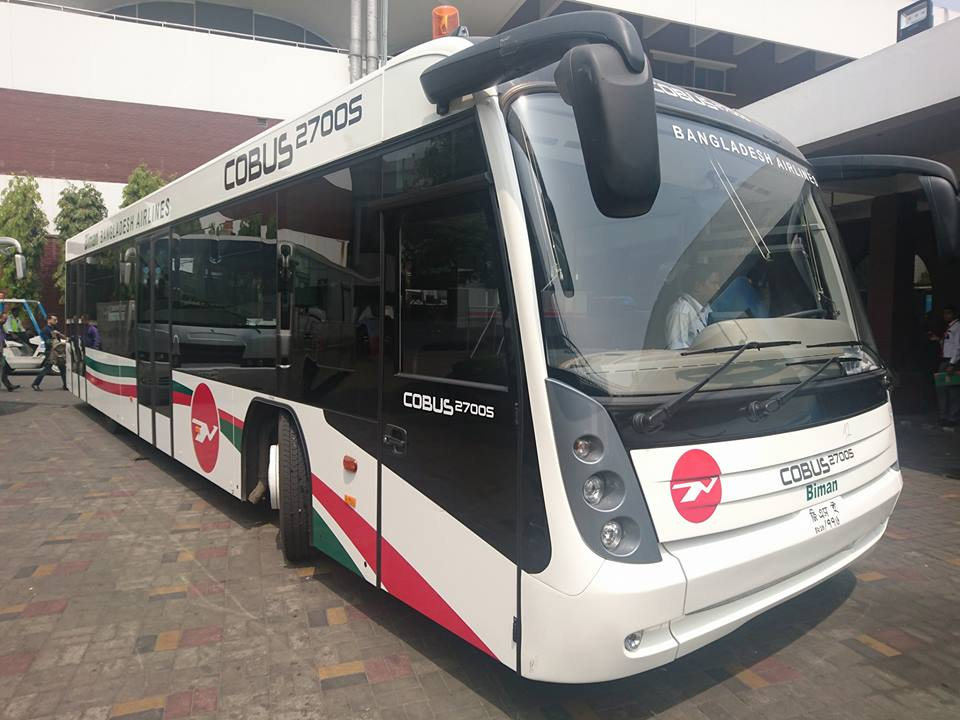bus: (50, 27, 914, 681)
